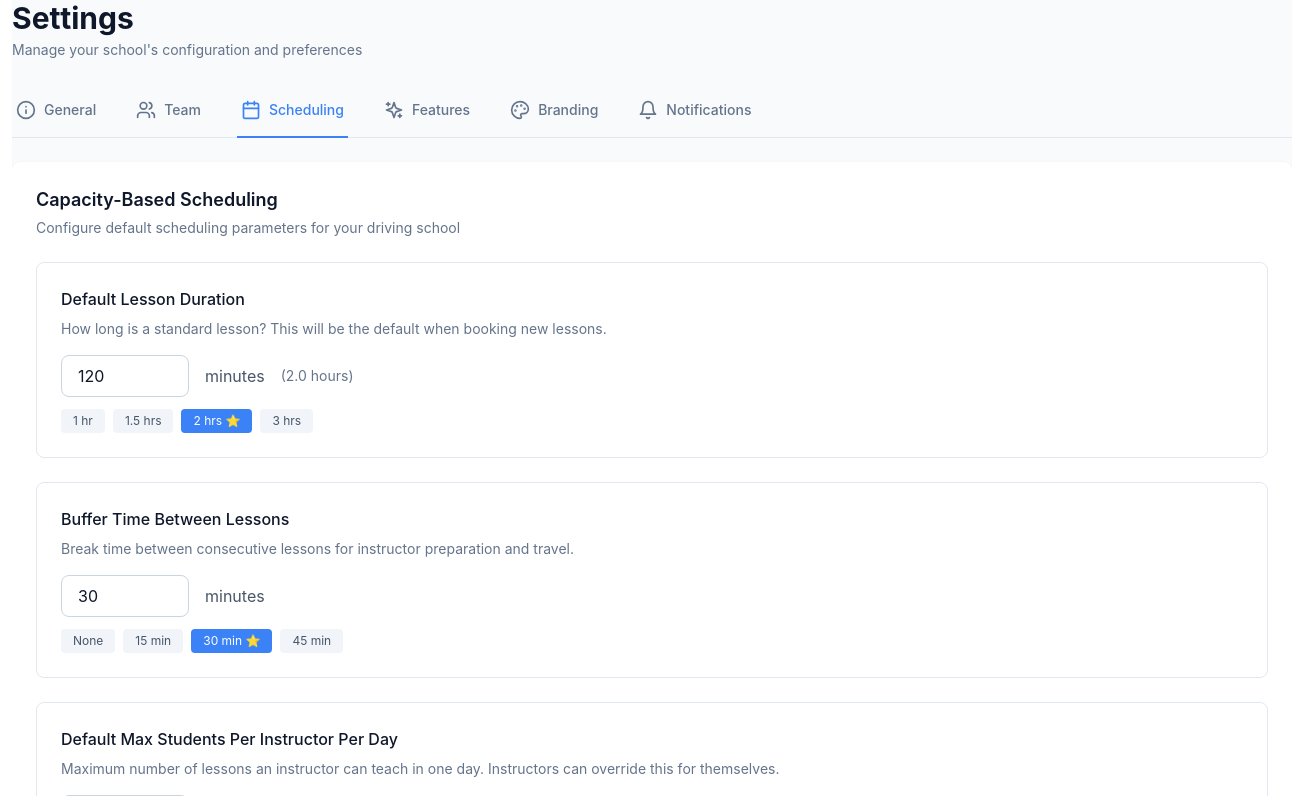
Scenario: Settings - Scheduling tab (capacity-based scheduling) › saves a changed buffer time through schedulingApi.updateSchedulingSettings, not a raw fetch to localhost
Check: the number field labelled "Buffer Time Between Lessons" holds "30", box [61, 575, 189, 617]
What coordinates should you click on to do the following:
click the button "45 min"
I would click on:
 (312, 641)
Its box is [280, 629, 343, 653].
(page scrolled)
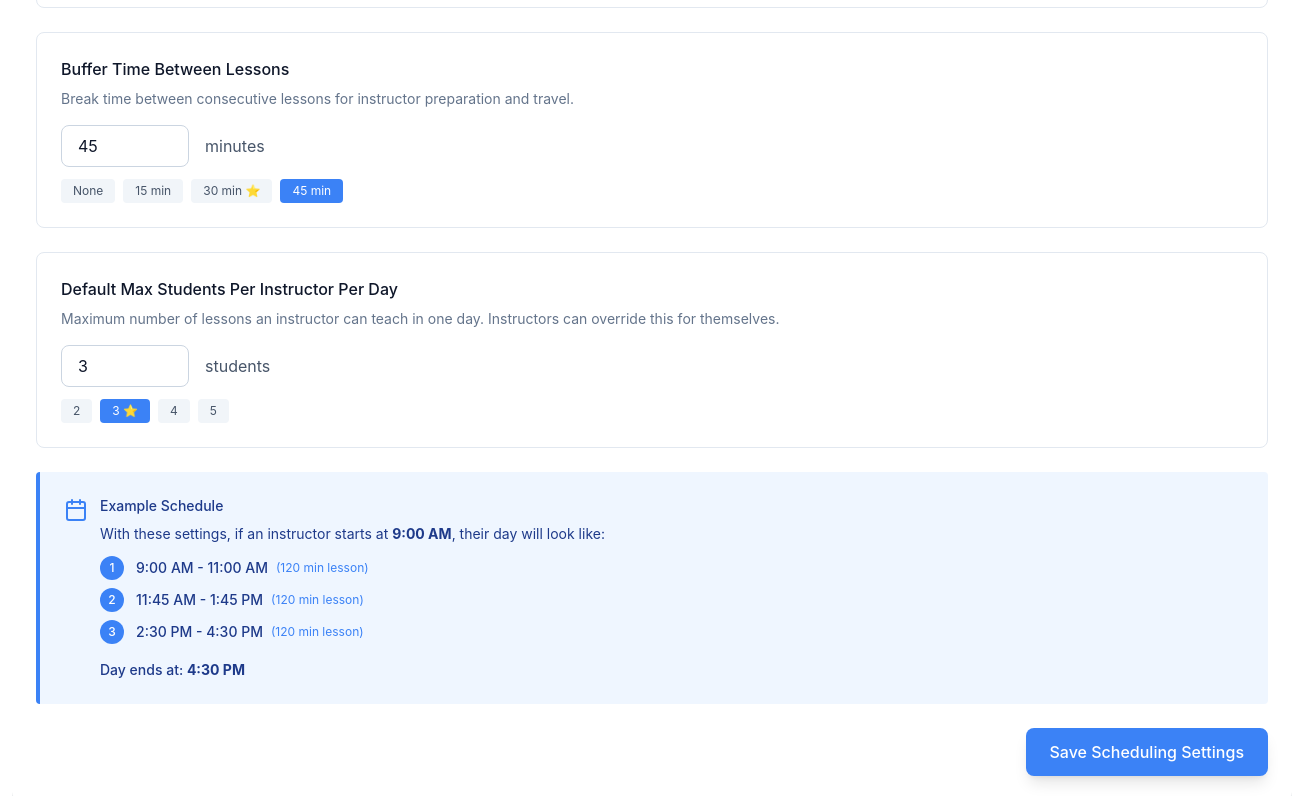
Check: the number field labelled "Buffer Time Between Lessons" holds "45", box [61, 125, 189, 167]
What coordinates should you click on to do the following:
click the button "Save Scheduling Settings"
I would click on:
 (1147, 752)
Its box is [1026, 728, 1268, 776].
(page scrolled)
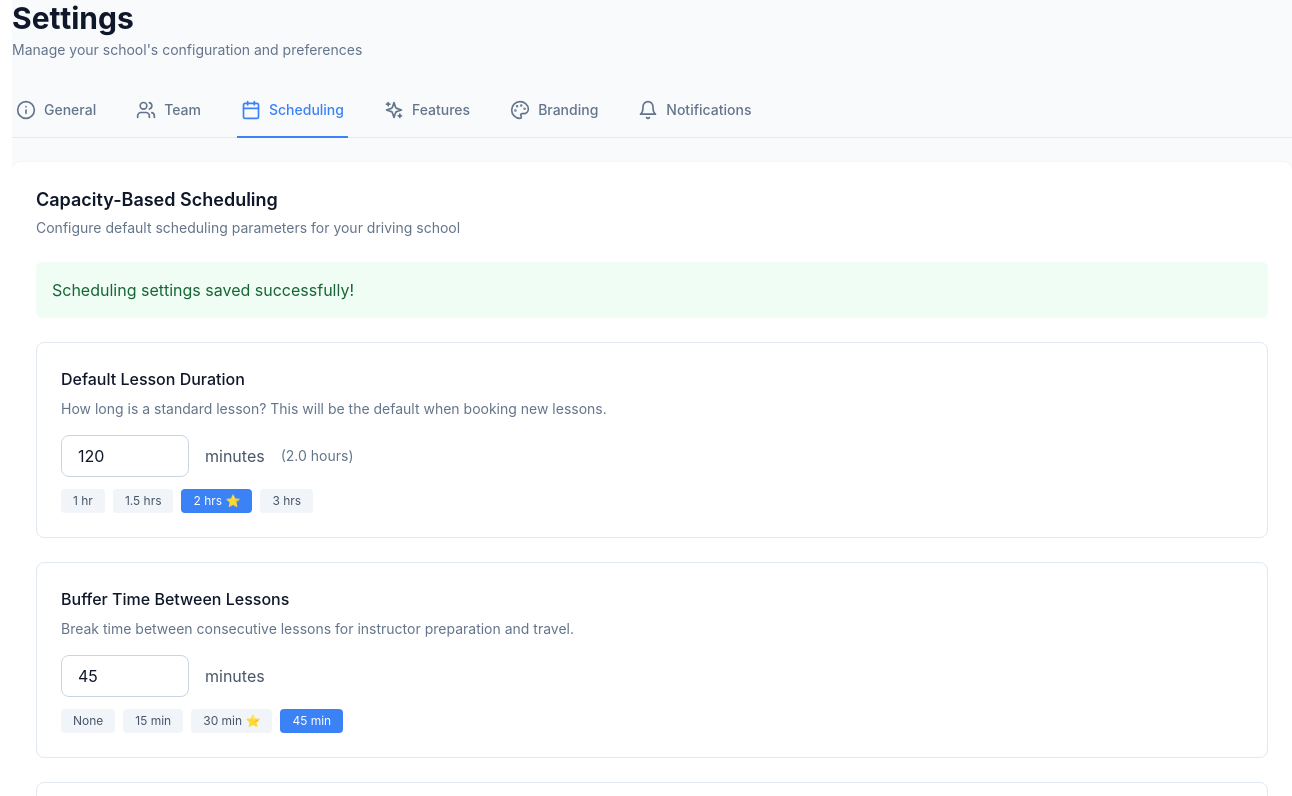
Check: the text "Scheduling settings saved successfully!" is shown, box [36, 262, 1268, 318]
